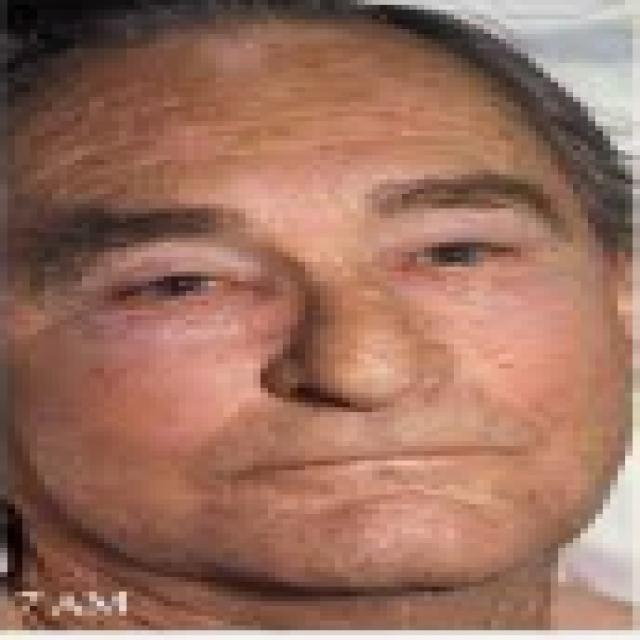normal_face: (73, 35, 580, 552)
